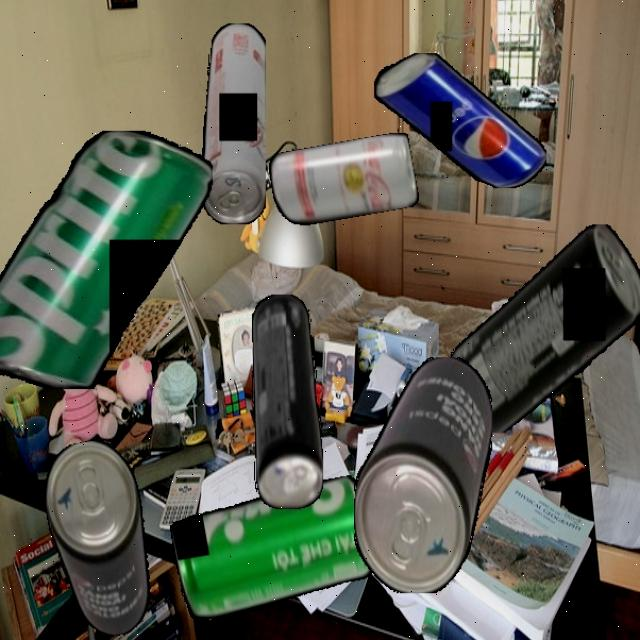debris: (0, 131, 213, 389), (449, 223, 640, 432), (353, 356, 492, 593), (167, 474, 378, 622), (36, 435, 163, 640), (373, 53, 547, 188), (251, 294, 323, 510), (267, 130, 420, 230), (201, 22, 266, 224)
